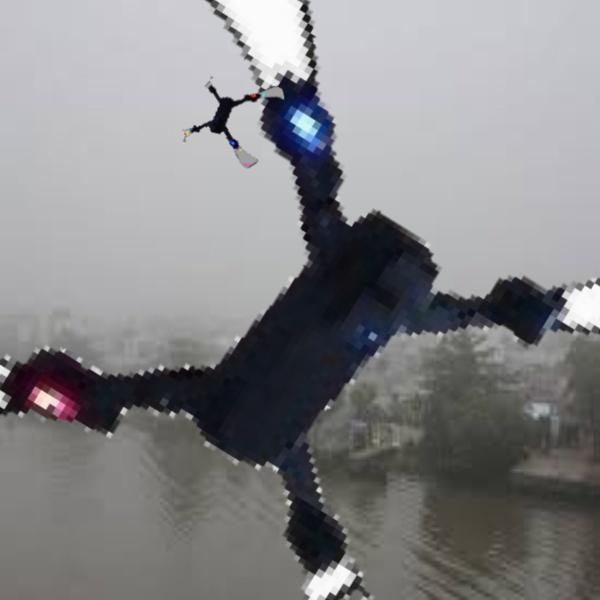drone: (185, 70, 284, 169)
